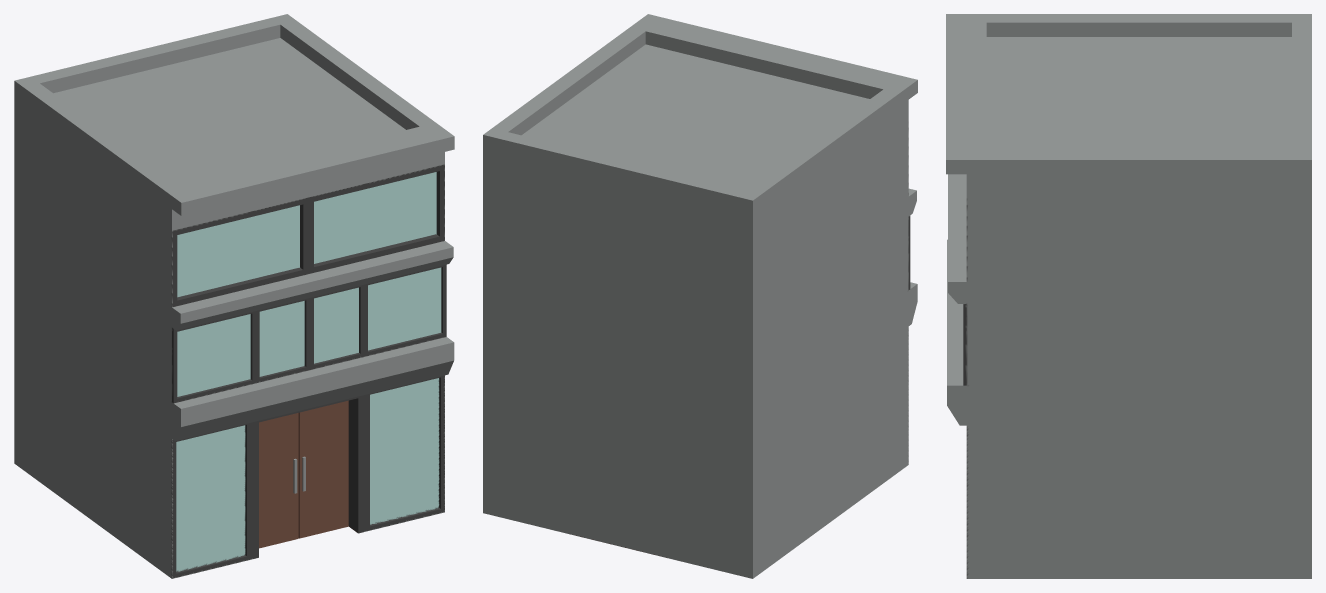
Rendered from BangunanGenericVar3.fbx.
3 renders of one model, left to right at view 1: azimuth 30°, elevation 25°; view 2: azimuth 150°, elevation 25°; view 3: azimuth 270°, elevation 25°, orthographic. The views are drawn at different scales.
Visible parts, largest first — view 1: Bangunan_Var3; view 2: Bangunan_Var3; view 3: Bangunan_Var3.
Boxes of the visible parts, x1,y1,x2,y2 form: Bangunan_Var3: (14,14,454,578); Bangunan_Var3: (483,14,917,578); Bangunan_Var3: (946,14,1311,578).
Size of the model in its own units: 300 by 402 by 318.
Materials: 1 (1 with a texture image).
